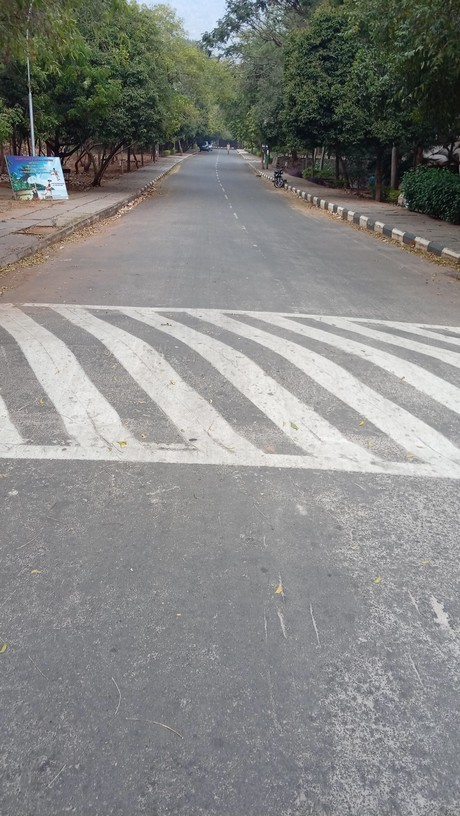bump: (1, 305, 460, 477)
